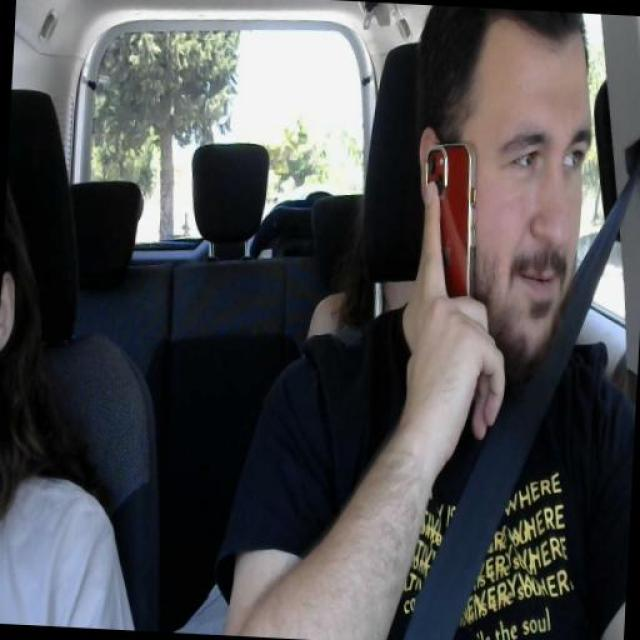phone: (421, 142, 478, 300)
